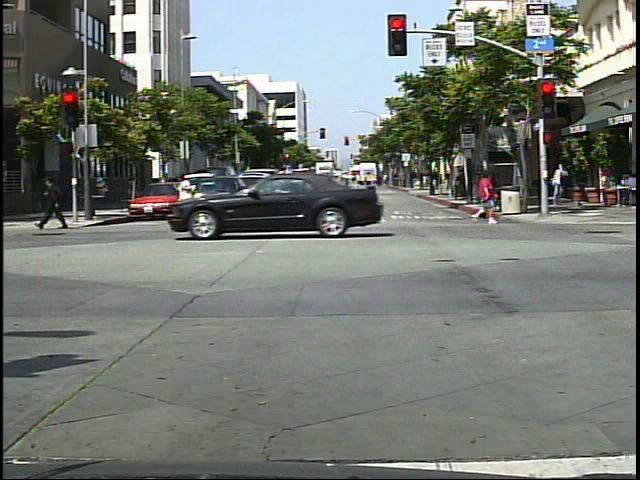person: (36, 169, 74, 235), (467, 169, 503, 231), (173, 169, 206, 234), (549, 160, 571, 206)
